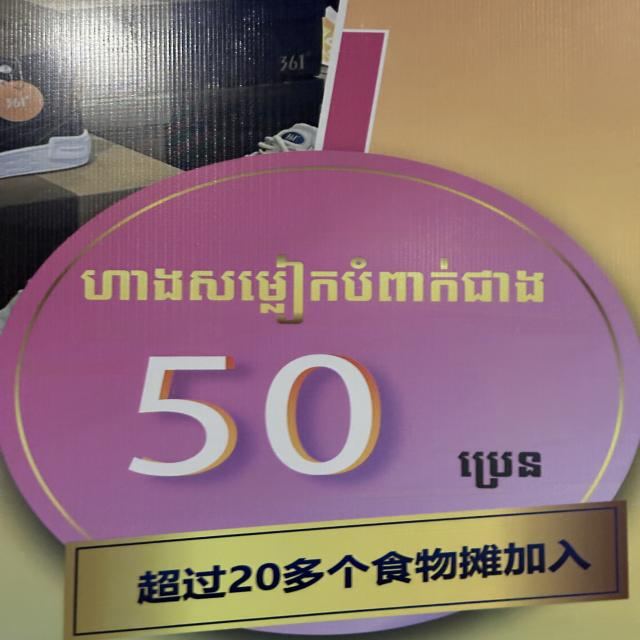773: (96, 344, 397, 491)
Yolov11kh: (64, 260, 552, 317), (423, 437, 552, 491)
